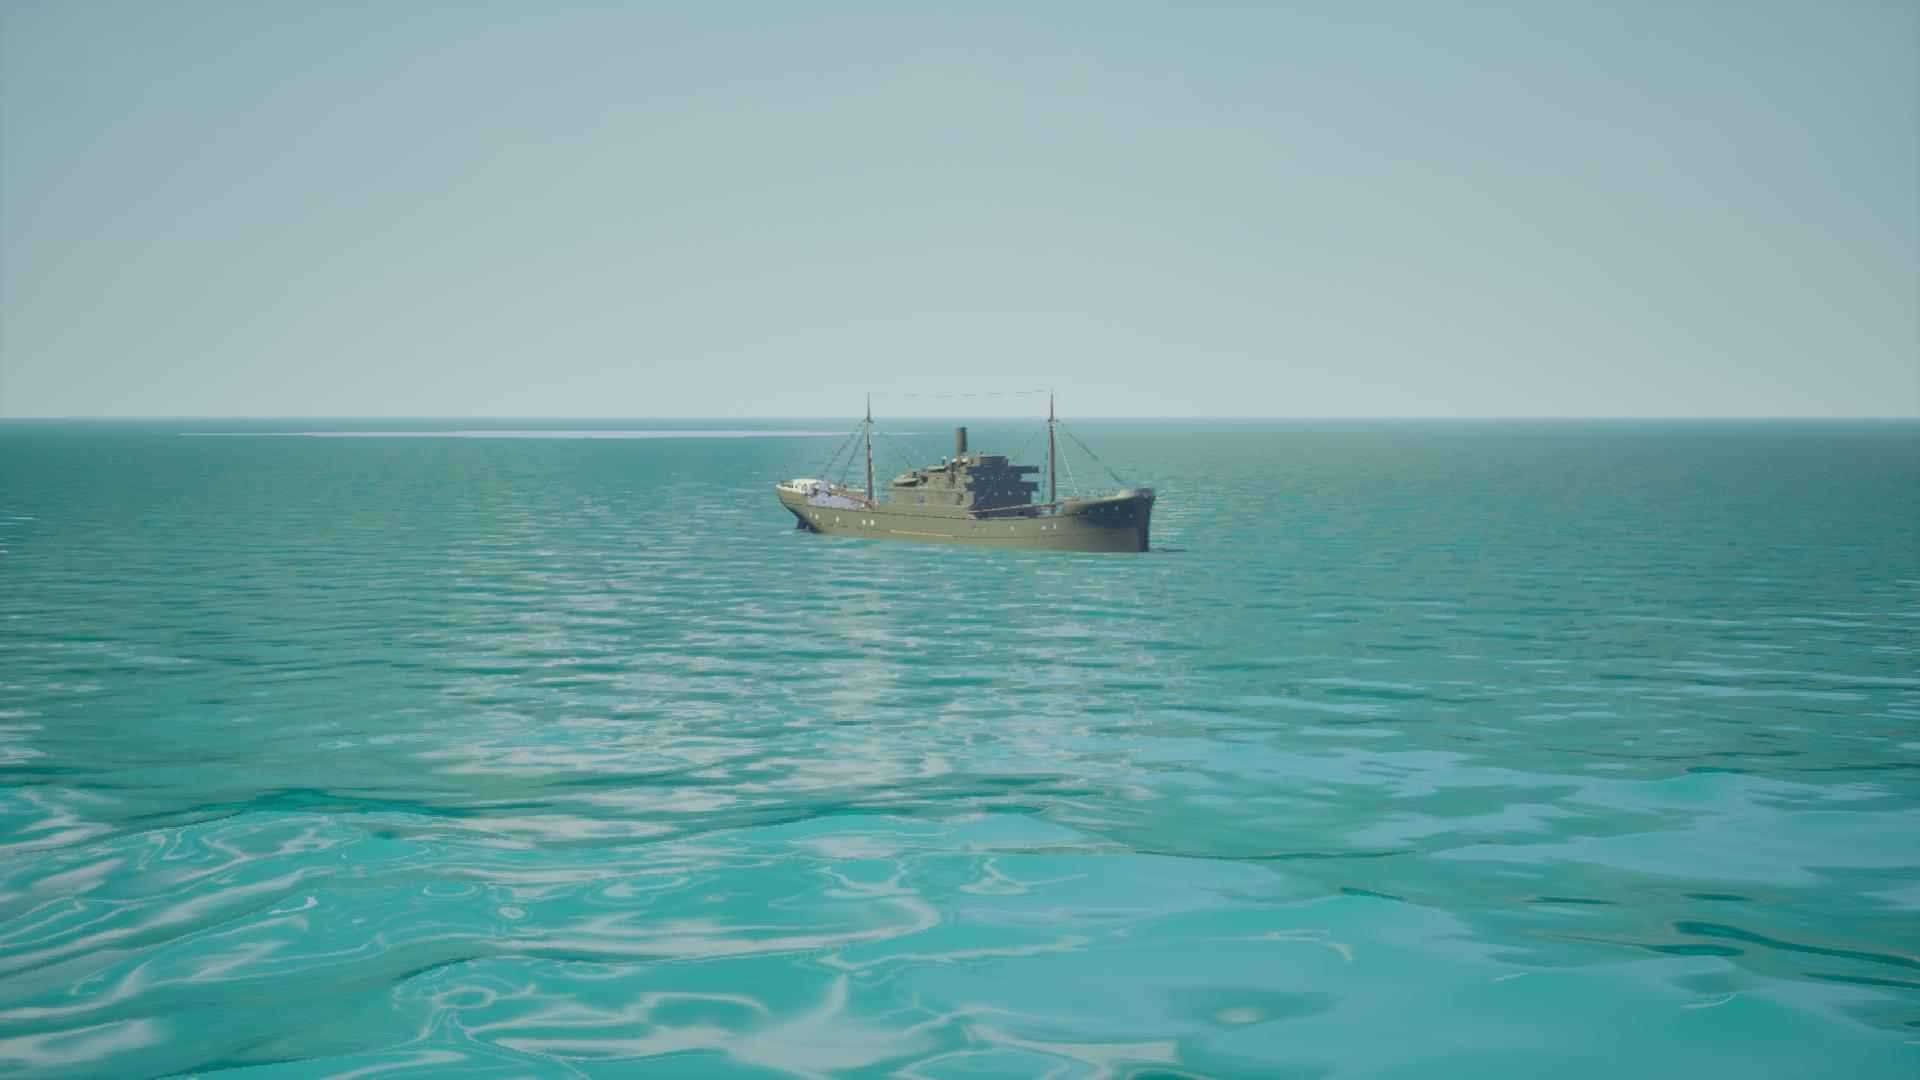Fishing Boat: (777, 393, 1159, 558)
